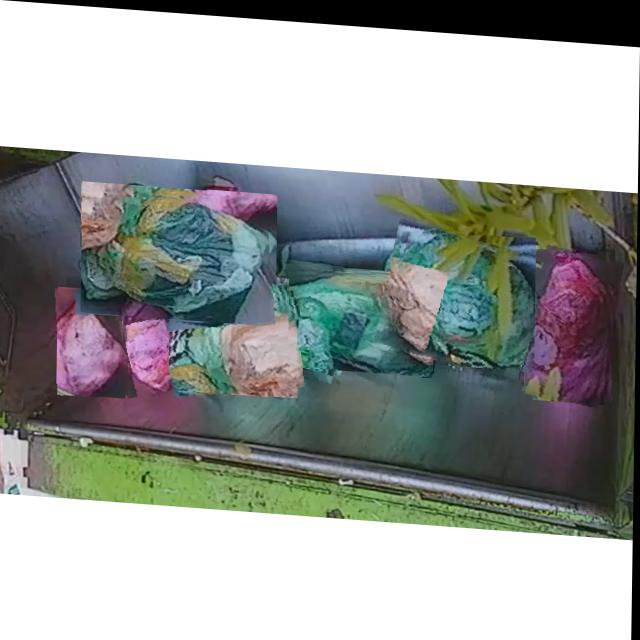general_trashbag: (82, 191, 271, 319), (395, 226, 536, 360), (290, 265, 434, 368), (170, 280, 289, 391)
other_trashbag: (525, 241, 614, 393), (224, 271, 346, 363), (58, 288, 125, 395), (110, 306, 178, 388)
